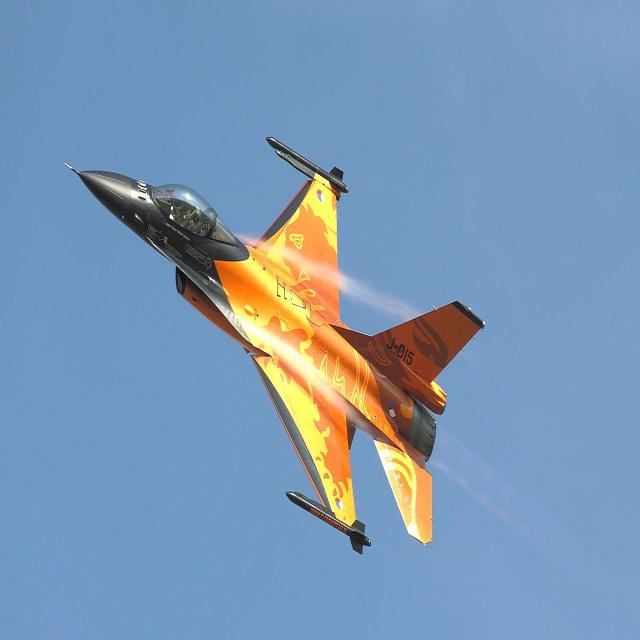MIL_Plane: (64, 134, 487, 554)
